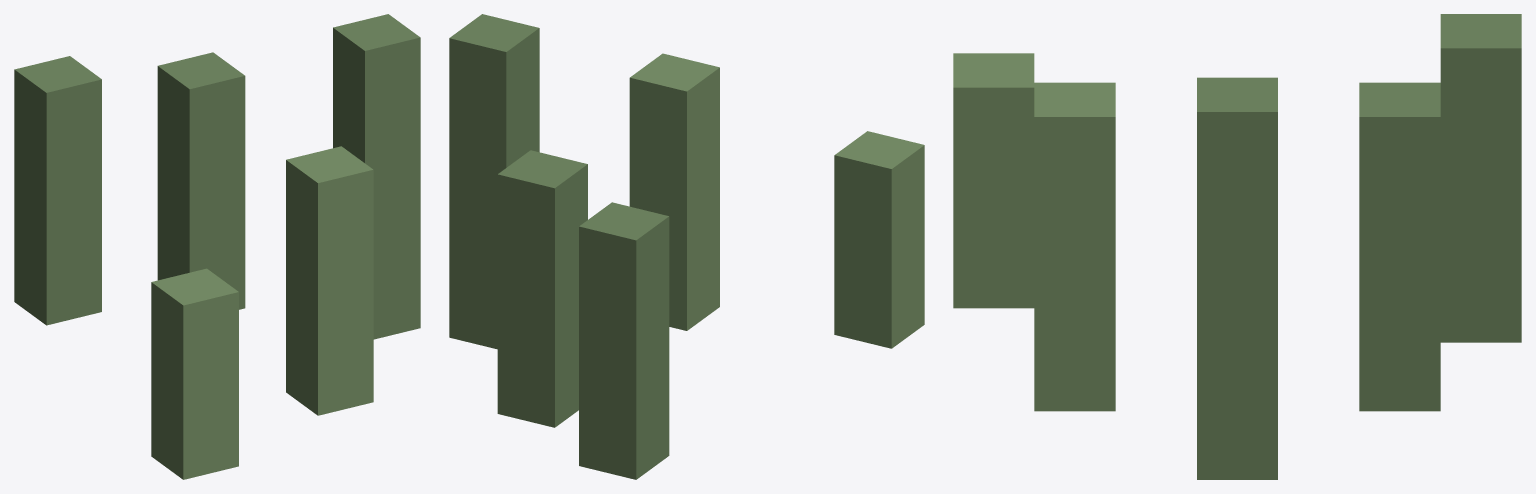
The model's file is musgo_01.glb.
3 renders of one model, left to right at view 1: azimuth 30°, elevation 25°; view 2: azimuth 150°, elevation 25°; view 3: azimuth 270°, elevation 25°, orthographic. The views are drawn at different scales.
Parts seen in each view (by area): view 1: musgo_01; view 2: musgo_01; view 3: musgo_01.
Part boxes in pixels (x1,y1,x2,y2): musgo_01: [14, 14, 420, 479]; musgo_01: [449, 14, 924, 479]; musgo_01: [953, 14, 1521, 479].
Size of the model in its own units: 0.6 by 0.5 by 0.7.
